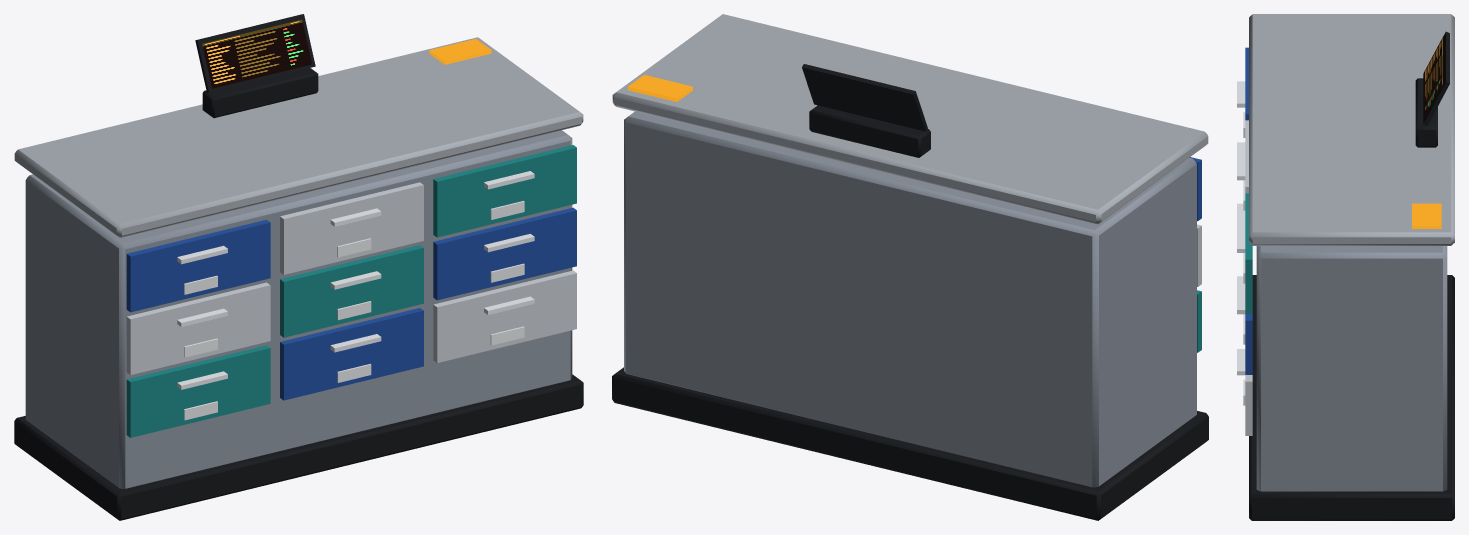
File: desk_drawer_console.glb
3 views of the same model, side by side, from view 1: azimuth 30°, elevation 25°; view 2: azimuth 150°, elevation 25°; view 3: azimuth 270°, elevation 25° (orthographic). The views are drawn at different scales.
Parts seen in each view (by area): view 1: desk_drawer_console; view 2: desk_drawer_console; view 3: desk_drawer_console.
Boxes of the visible parts, box(x1,y1,x2,y2) form: desk_drawer_console: box(14, 14, 583, 520); desk_drawer_console: box(612, 14, 1208, 520); desk_drawer_console: box(1237, 14, 1454, 520).
Size of the model in its own units: 1.4 by 1.05 by 0.582.
Materials: 10 (1 with a texture image).
